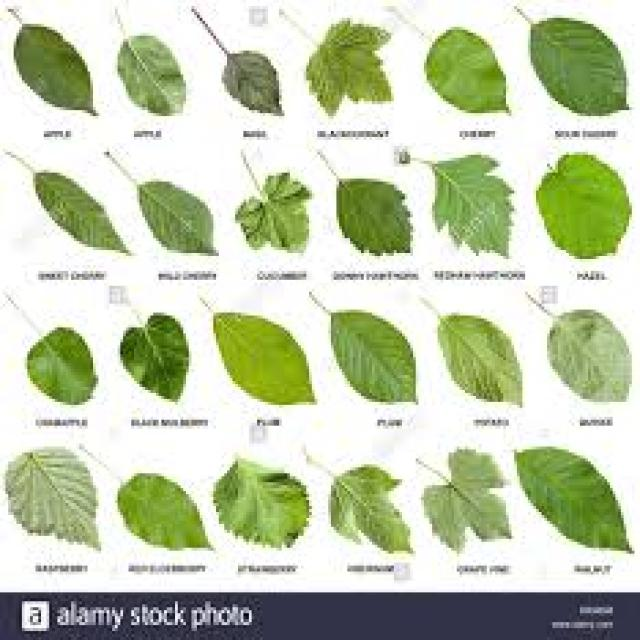leaves: (516, 448, 629, 549), (538, 154, 629, 258), (422, 449, 510, 549), (532, 22, 626, 115), (214, 316, 314, 403), (6, 450, 96, 545), (432, 154, 511, 255), (215, 461, 308, 546), (332, 313, 416, 402), (549, 310, 630, 401), (310, 23, 391, 112), (34, 173, 126, 251), (331, 465, 410, 552), (441, 316, 520, 403), (119, 473, 209, 548), (14, 26, 92, 111), (429, 30, 508, 111), (236, 173, 310, 250), (121, 314, 188, 399), (138, 181, 212, 254), (28, 328, 98, 403), (119, 37, 185, 115), (341, 180, 410, 254), (228, 52, 280, 112)
